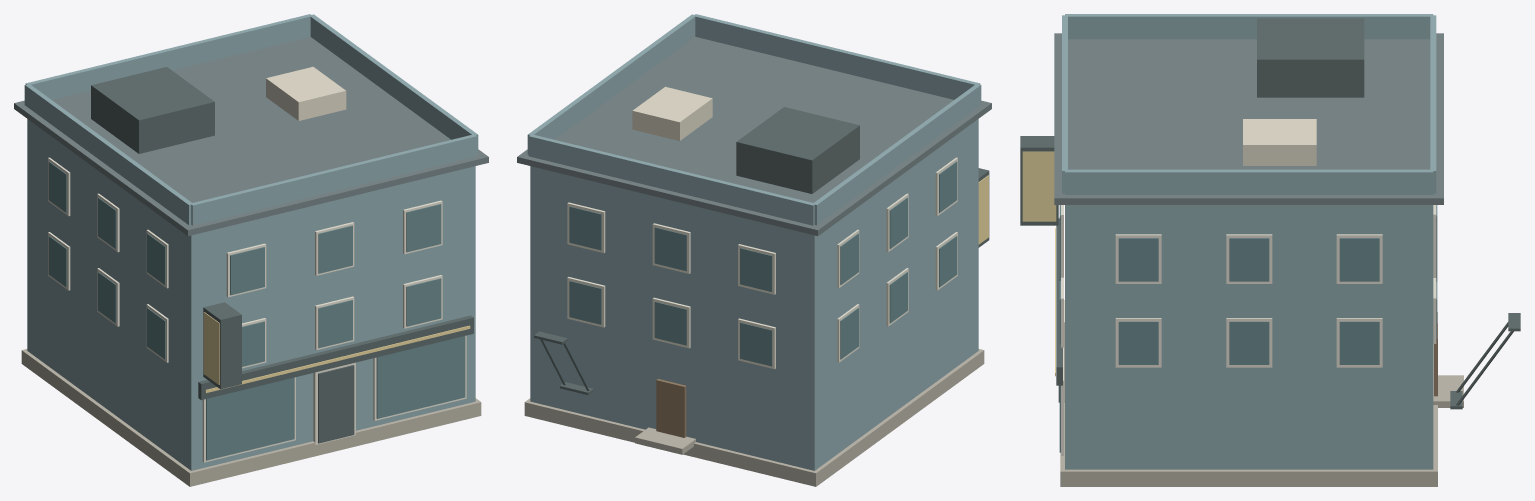
3 views of the same model, side by side, from view 1: azimuth 30°, elevation 25°; view 2: azimuth 150°, elevation 25°; view 3: azimuth 270°, elevation 25° (orthographic). The views are drawn at different scales.
Size of the model in its own units: 12.7 by 11.83 by 16.3.
